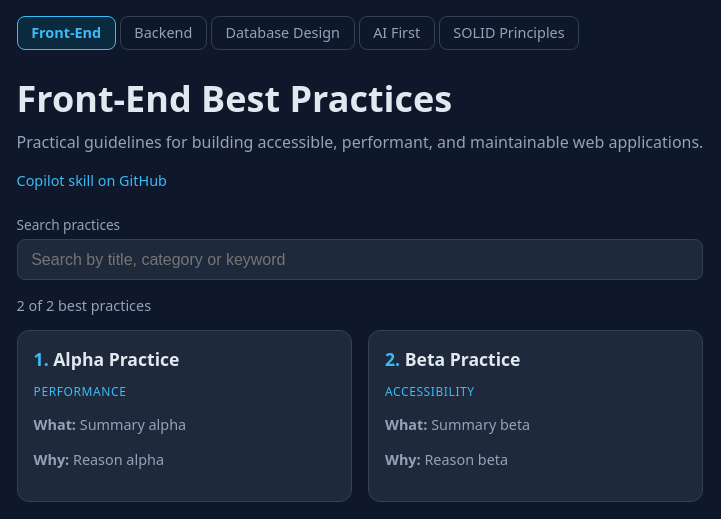
Test: BestPracticesPage › filters practices by search query
The image size is (721, 519).
Type "Alpha" into the search field labelled "Search practices". click: (360, 260)
box: [17,239,704,280]
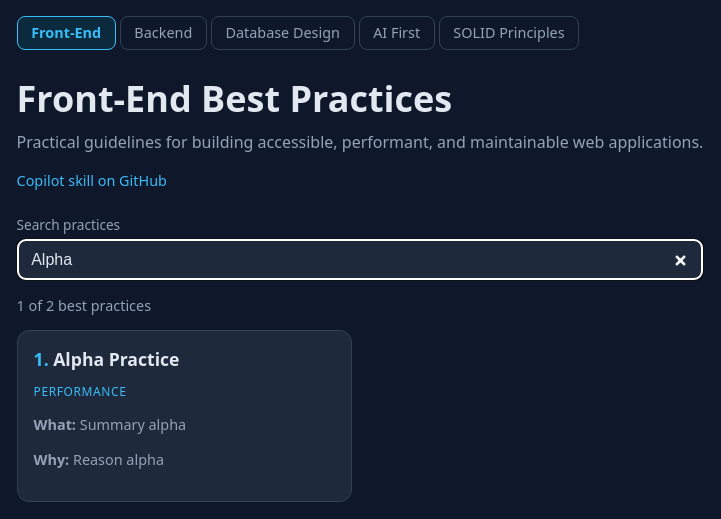
Expected: the message reads "1 of 2 best practices", [17,296,151,315]
